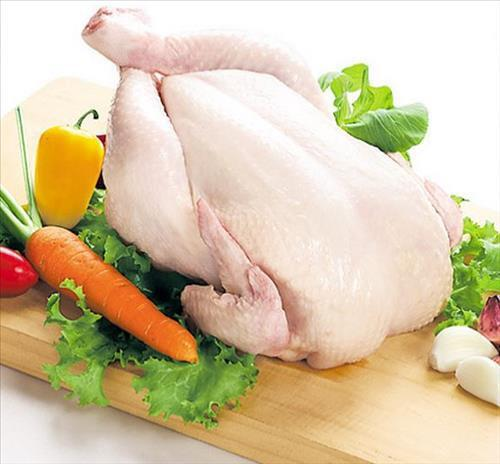chicken: (63, 4, 360, 268)
